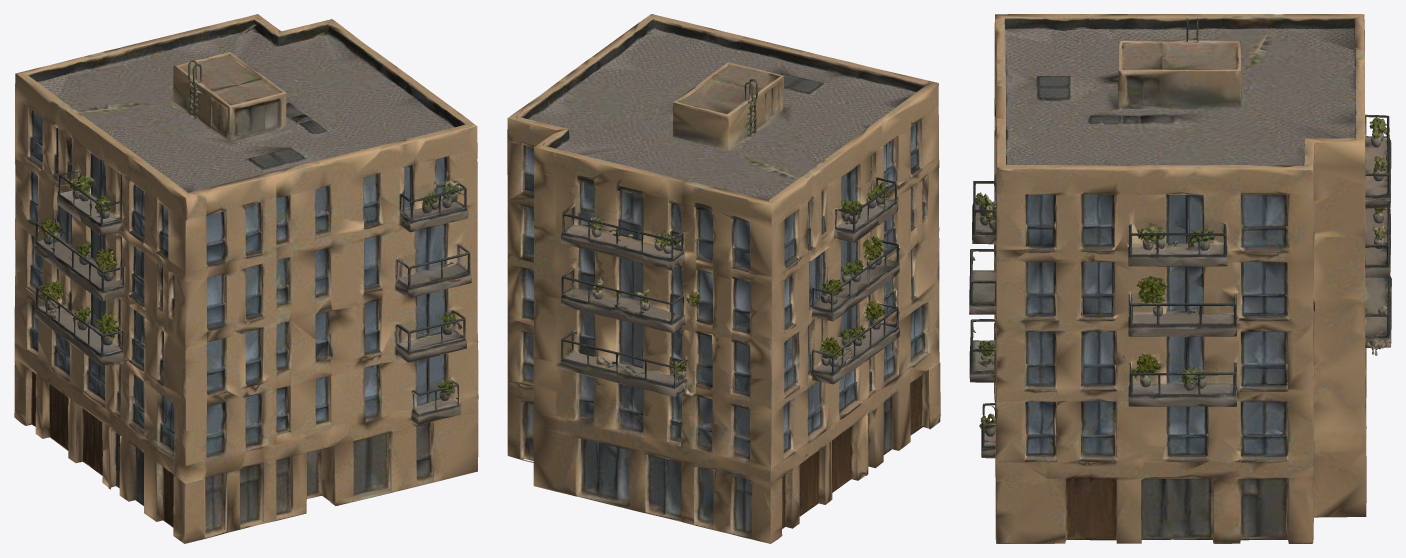
The model's file is resblock_lod1.glb.
The picture shows the model from 3 angles, left to right: view 1: azimuth 30°, elevation 25°; view 2: azimuth 150°, elevation 25°; view 3: azimuth 270°, elevation 25°; orthographic projection. The views are drawn at different scales.
Visible parts, largest first — view 1: mesh_node; view 2: mesh_node; view 3: mesh_node.
Boxes of the visible parts, x1,y1,x2,y2 form: mesh_node: (14,14,478,543); mesh_node: (507,14,940,543); mesh_node: (969,14,1391,543).
Bounding box in the file's own units: 1.73 × 1.9 × 1.72.
Materials: 1 (1 with a texture image).
